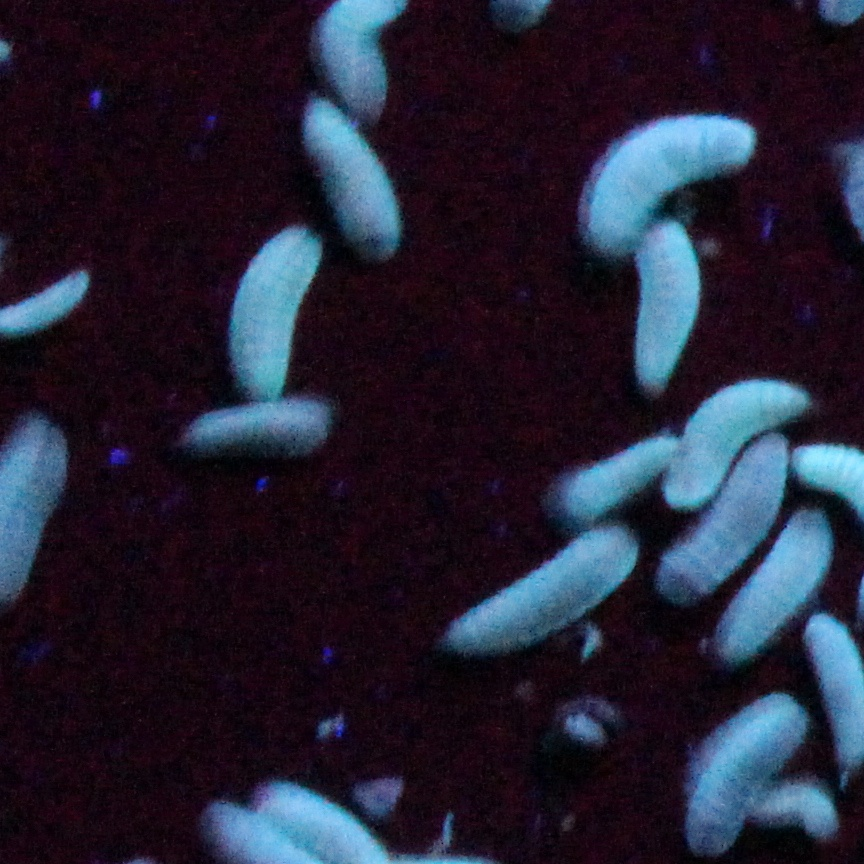larve: (568, 105, 758, 247), (435, 528, 639, 645), (654, 435, 791, 595), (662, 378, 816, 499), (687, 699, 804, 851), (712, 512, 829, 662), (227, 235, 320, 401), (304, 103, 402, 253), (627, 224, 702, 389), (552, 443, 683, 518), (1, 268, 95, 339), (187, 408, 329, 453)
